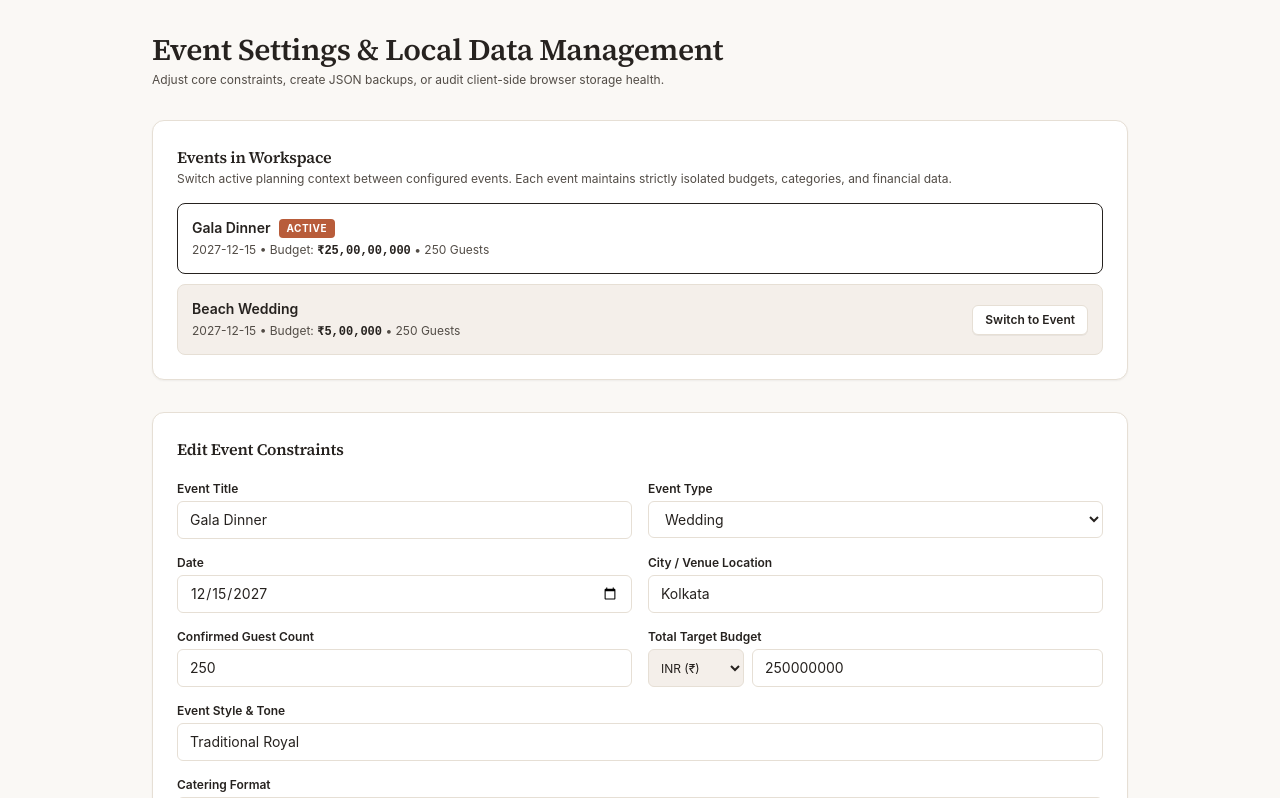
Test: VowPilot — Critical Budget Isolation & Multi-Event Regression Suite › UI Integration: SettingsView workspace renders all events and supports switching
Expected: the text "Active" is shown, [278,218,335,238]
Expected: the text "Gala Dinner" is shown, [192,218,270,238]
Switch to Beach Wedding via button
Click the button with test id "switch-event-btn-evt_b_settings".
click(1030, 320)  # box [972,304,1088,334]
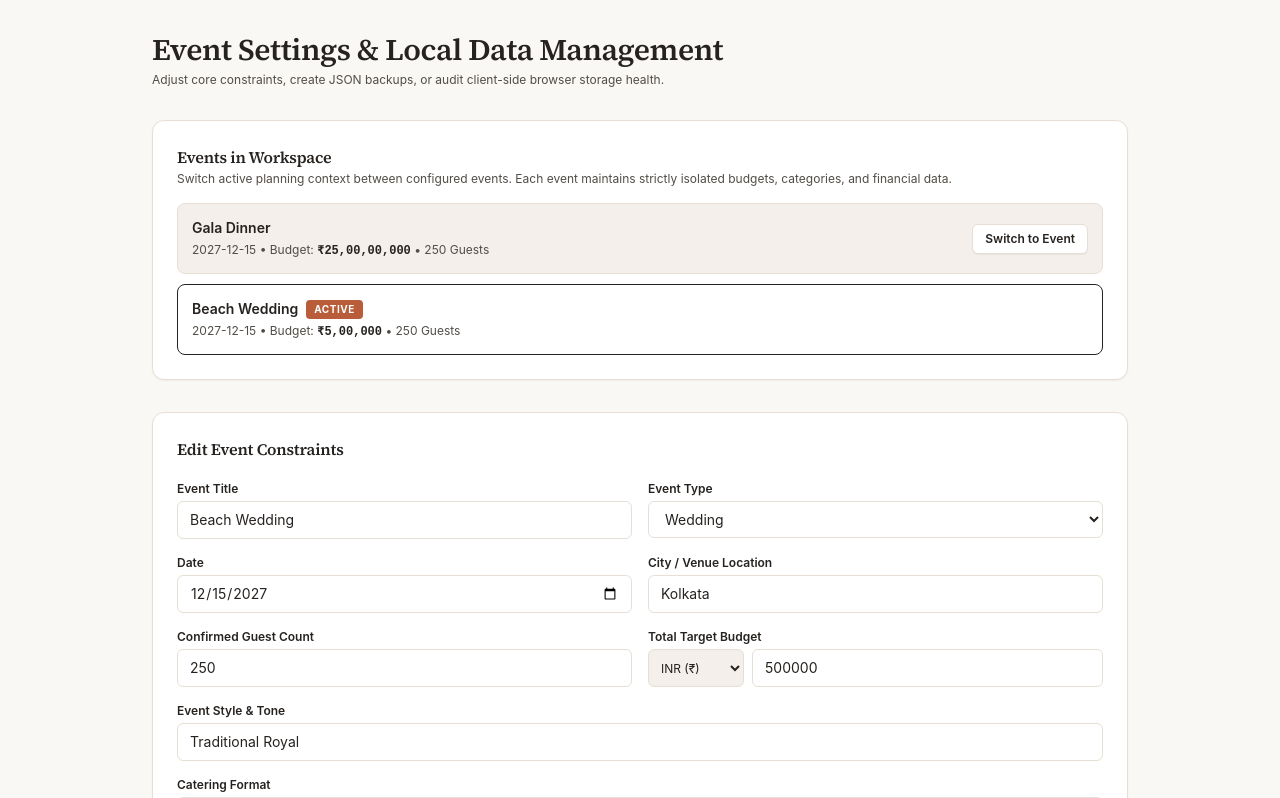
Result: the field labelled "Event Title" holds "Beach Wedding" at [177,501,632,539]
